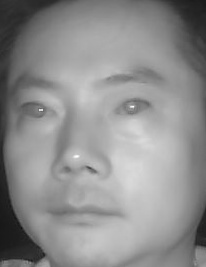eye: (110, 95, 154, 122), (17, 98, 60, 124)
mouth: (44, 191, 124, 232)
